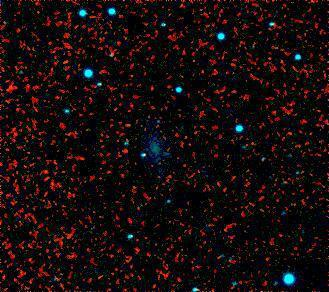star: (111, 111, 141, 141)
